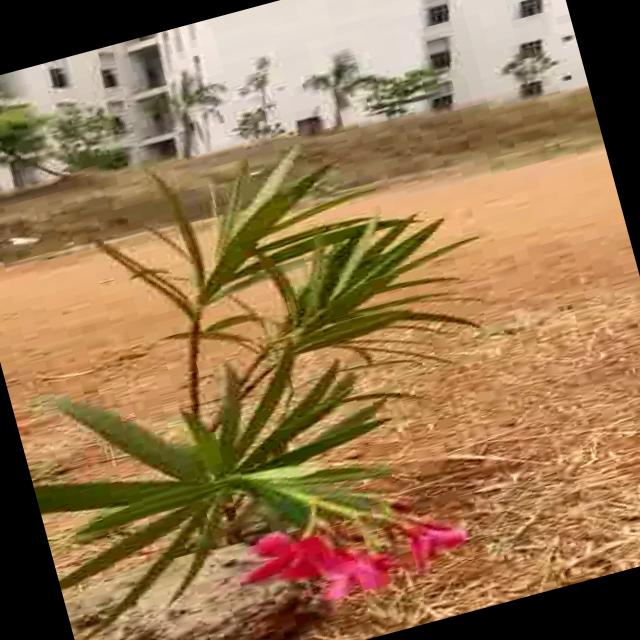Oleander: (0, 112, 564, 640)
